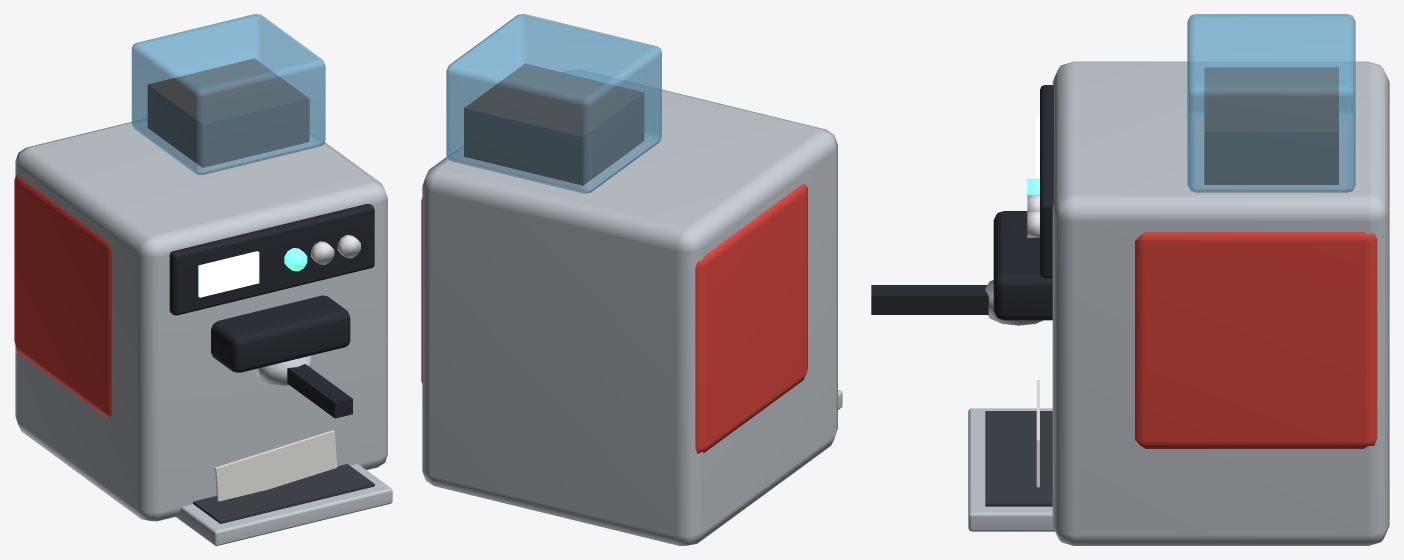
File: CoffeeMachine.fbx
The picture shows the model from 3 angles, left to right: view 1: azimuth 30°, elevation 25°; view 2: azimuth 150°, elevation 25°; view 3: azimuth 270°, elevation 25°; orthographic projection. The views are drawn at different scales.
Parts seen in each view (by area): view 1: CoffeeMachineBody; view 2: CoffeeMachineBody; view 3: CoffeeMachineBody.
Boxes of the visible parts, x1=… form: CoffeeMachineBody: x1=14, y1=14, x2=392, y2=545; CoffeeMachineBody: x1=421, y1=14, x2=842, y2=545; CoffeeMachineBody: x1=871, y1=14, x2=1389, y2=545.
Bounding box in the file's own units: 0.43 × 0.6 × 0.615.
